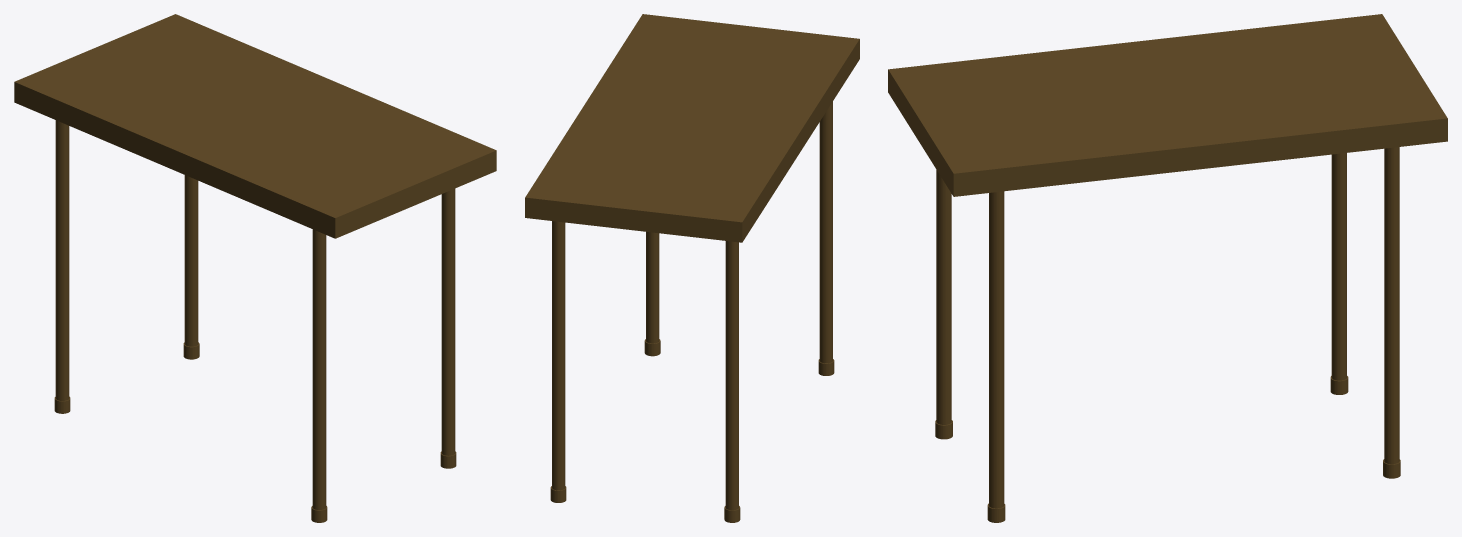
The model's file is simpledesk.gltf.
3 renders of one model, left to right at view 1: azimuth 30°, elevation 25°; view 2: azimuth 150°, elevation 25°; view 3: azimuth 270°, elevation 25°, orthographic. The views are drawn at different scales.
Parts seen in each view (by area): view 1: 立方体; view 2: 立方体; view 3: 立方体.
Part boxes in pixels (x1=…): 立方体: x1=14, y1=14, x2=496, y2=522; 立方体: x1=525, y1=14, x2=859, y2=522; 立方体: x1=888, y1=14, x2=1447, y2=522.
Size of the model in its own units: 0.7397 by 0.78 by 1.09.
